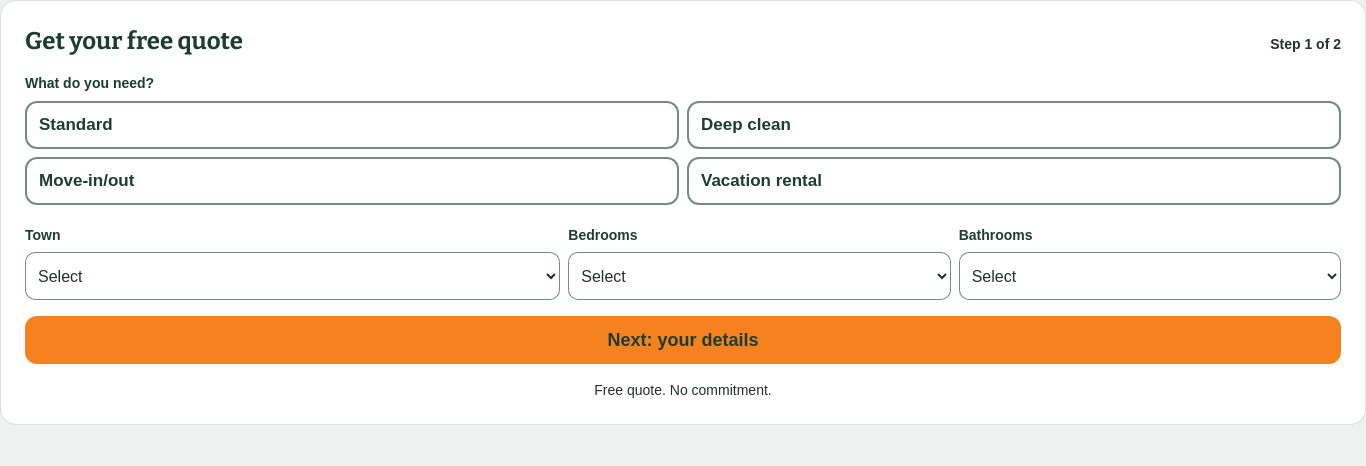
Test: QuoteForm step 1 › treats a submit on step 1 as Next and never sends
Click the radio button labelled "Deep clean": coordinates (746, 125) top-left (687, 101), bottom-right (1341, 149)
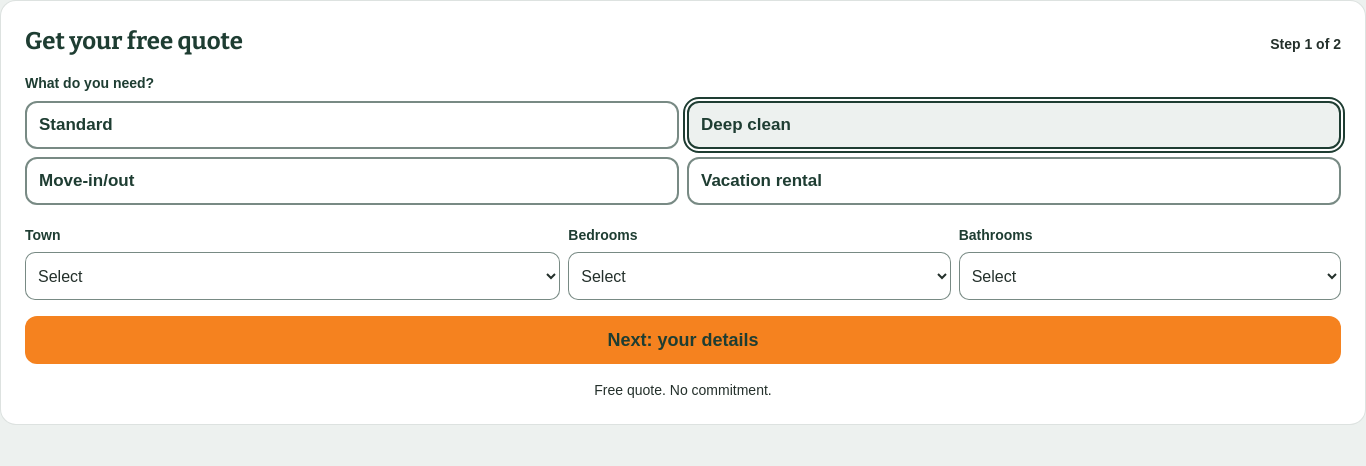
Submit the form "Get your free quote"
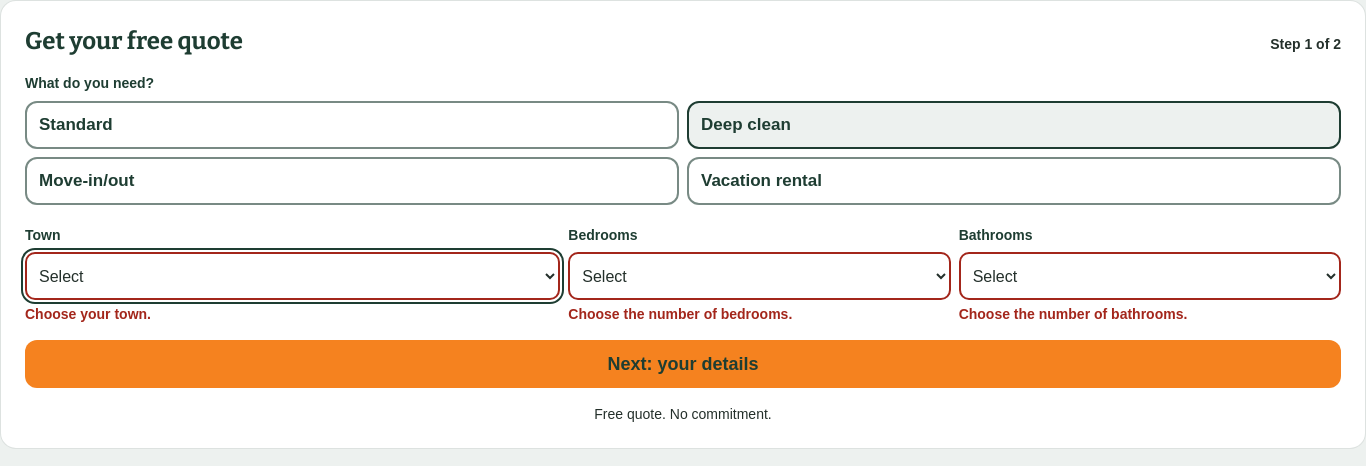
Expected: the text "Step 1 of 2" is shown, top-left (1270, 34), bottom-right (1341, 54)
Now the text "Choose your town." is shown, box top-left (25, 306), bottom-right (151, 322)
